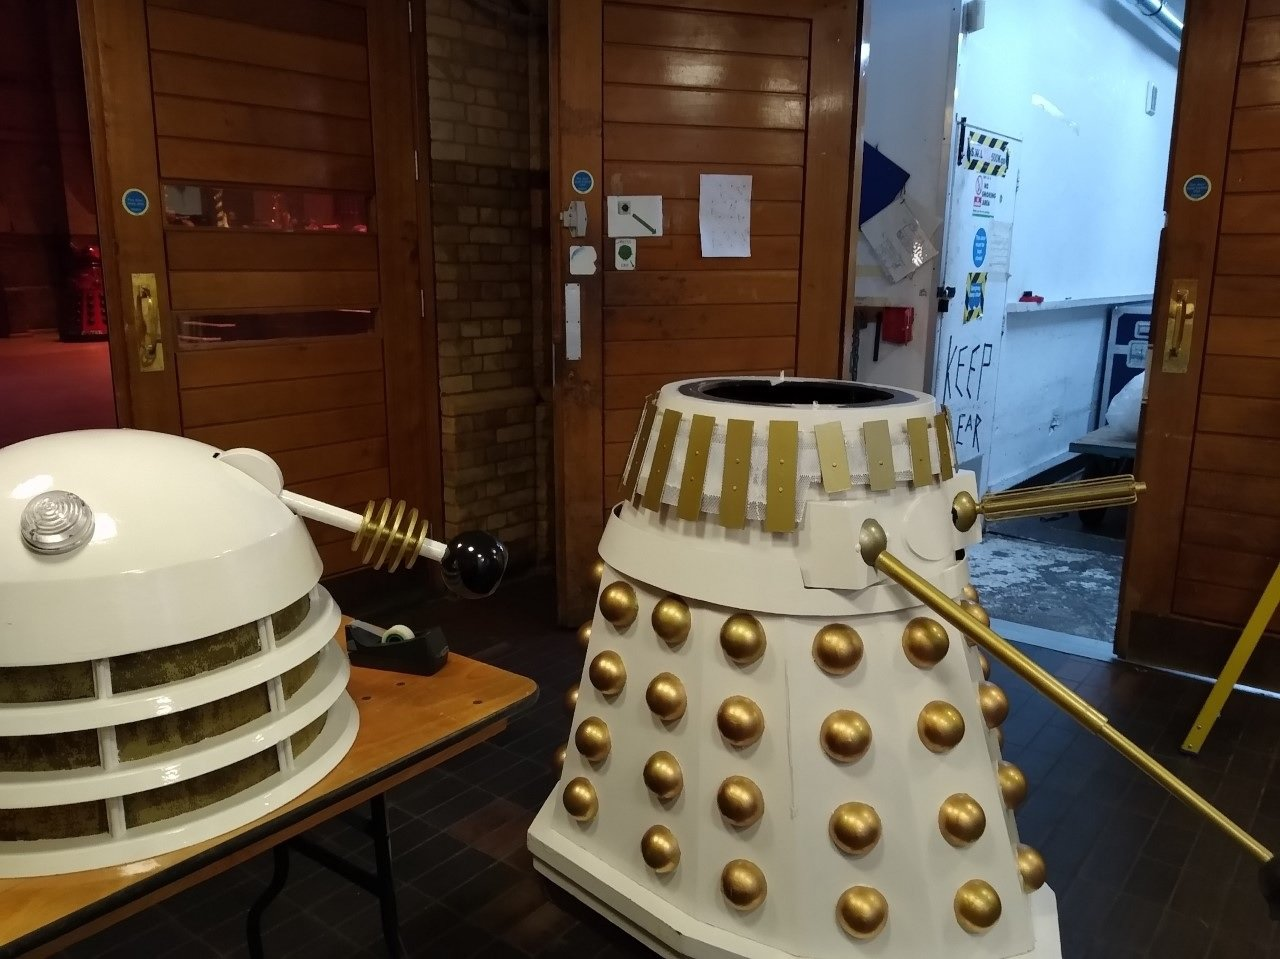dalek: (523, 249, 1043, 955)
